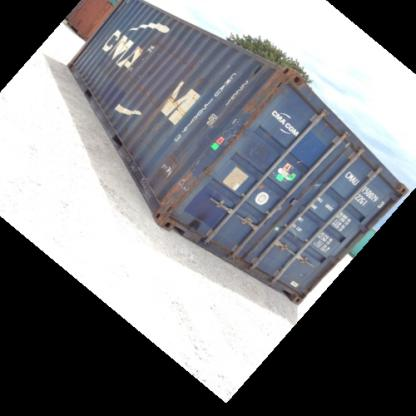Damage: (234, 68, 289, 134), (119, 59, 163, 109), (170, 36, 206, 86), (165, 173, 219, 199), (134, 164, 156, 193), (187, 209, 209, 232)
